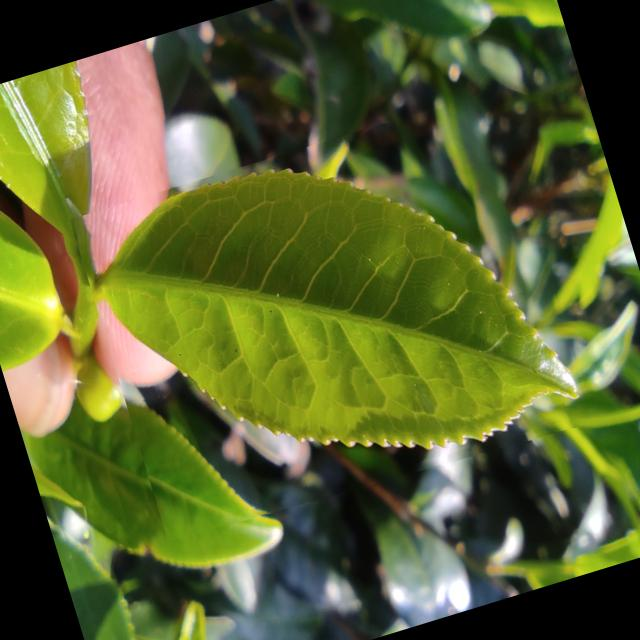Category B(2-4 days): (68, 89, 594, 551)
